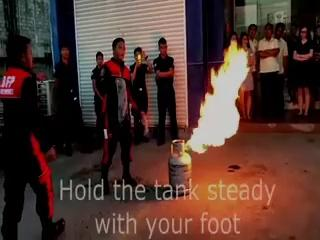Fire: (182, 26, 251, 153)
